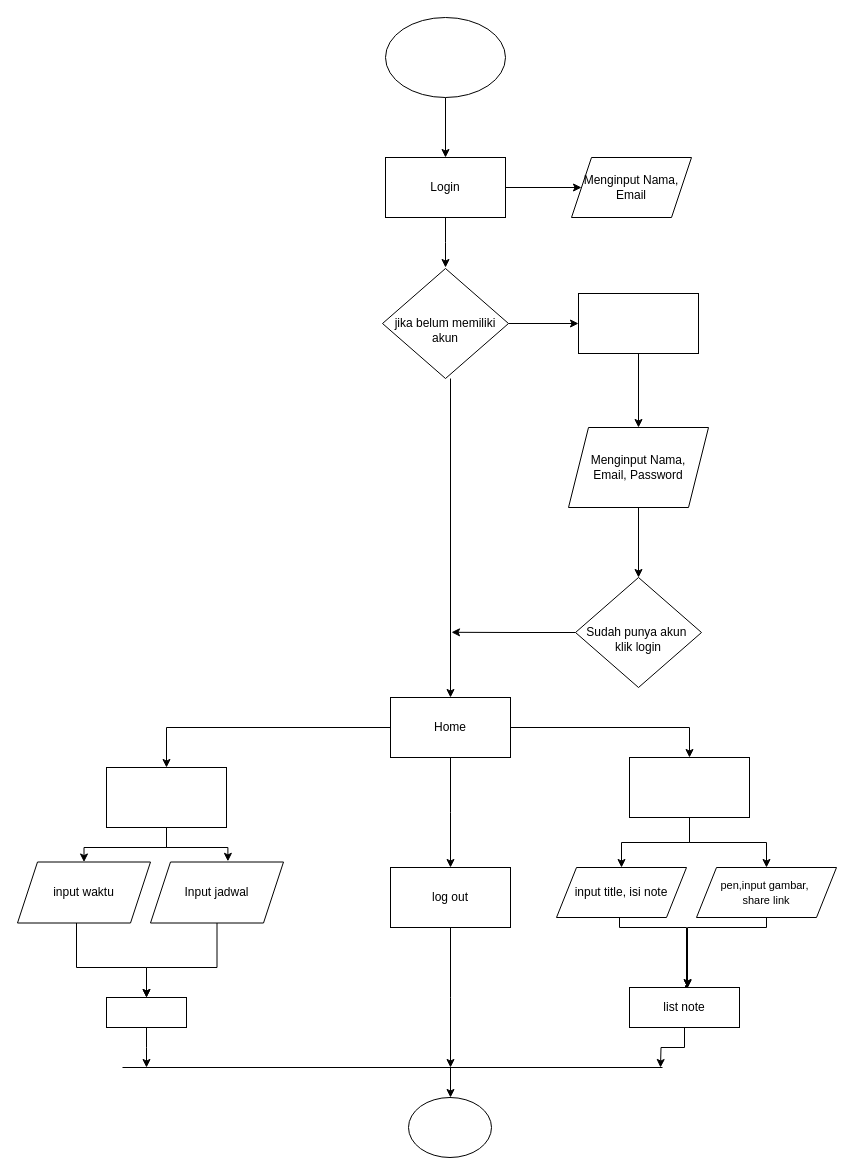
Some shapes in this 854 by 1175 pixel diagram are drawn without their labels. Each missing label, with the box of its shape:
Calender: (106, 766, 226, 828)
Jadwal: (106, 996, 186, 1028)
Mulai: (384, 16, 506, 98)
Note: (628, 756, 750, 818)
Regristasi: (578, 292, 698, 354)
Selesai: (408, 1096, 492, 1158)
